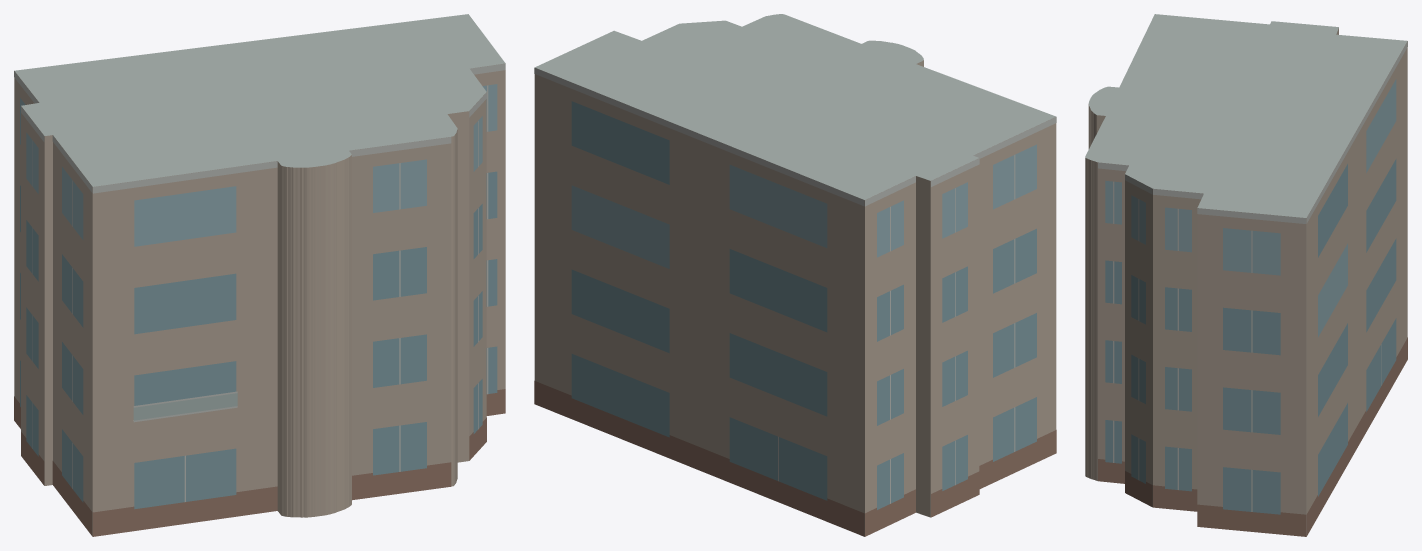
Rendered from survey-upis-32666289.glb.
The picture shows the model from 3 angles, left to right: view 1: azimuth 30°, elevation 25°; view 2: azimuth 150°, elevation 25°; view 3: azimuth 270°, elevation 25°; orthographic projection. The views are drawn at different scales.
Visible parts, largest first — view 1: survey-upis-32666289.tmp; view 2: survey-upis-32666289.tmp; view 3: survey-upis-32666289.tmp.
Part boxes in pixels (left/top/right/bottom): survey-upis-32666289.tmp: left=14, top=14, right=505, bottom=536; survey-upis-32666289.tmp: left=534, top=14, right=1056, bottom=536; survey-upis-32666289.tmp: left=1085, top=14, right=1407, bottom=536.
Bounding box in the file's own units: 17.58 × 12.8 × 11.74.
